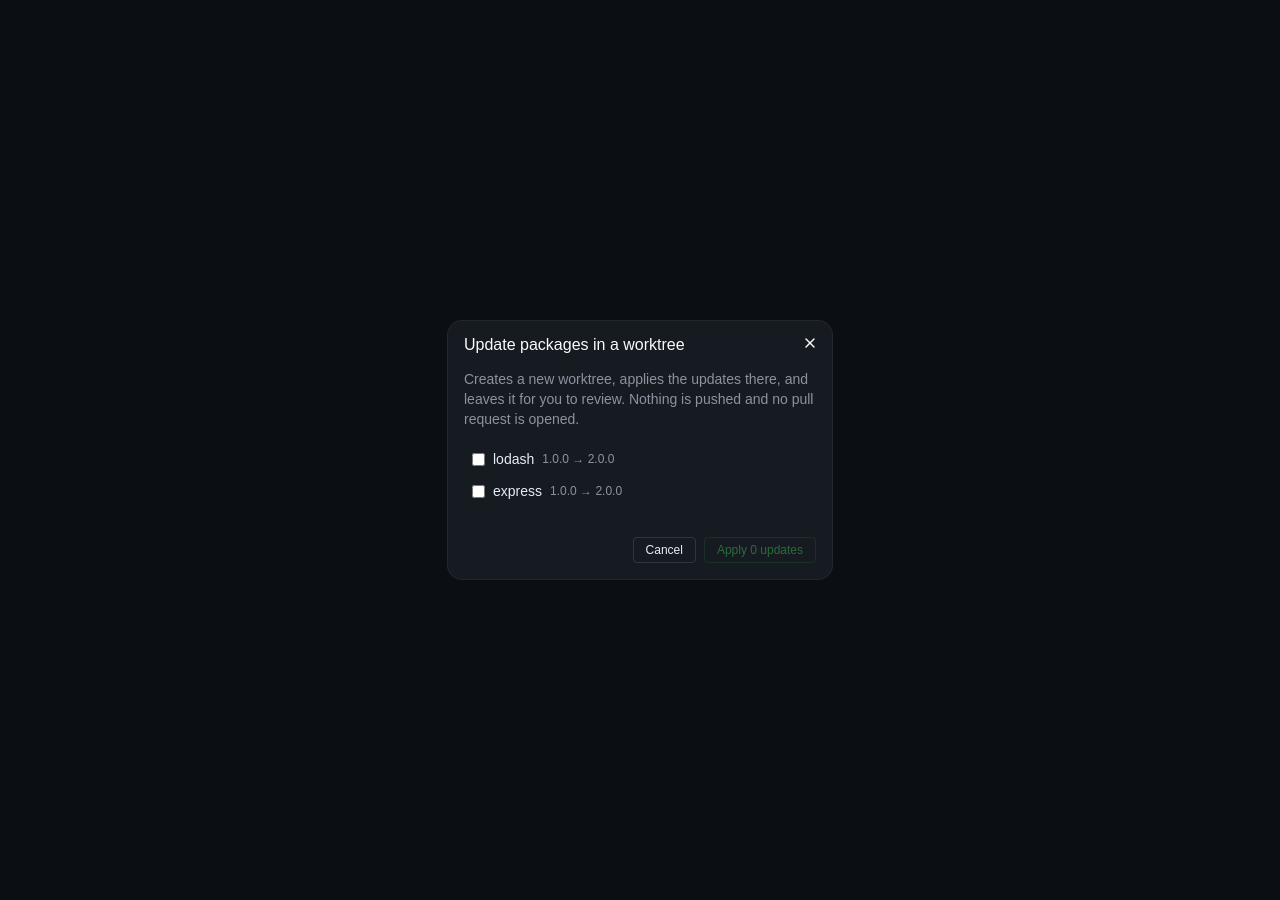
Test: UpdateWizard › reports a per-package failure without discarding the run
The image size is (1280, 900).
Click the checkbox labelled "lodash 1.0.0 → 2.0.0".
click(478, 459)  # box [472, 452, 485, 466]
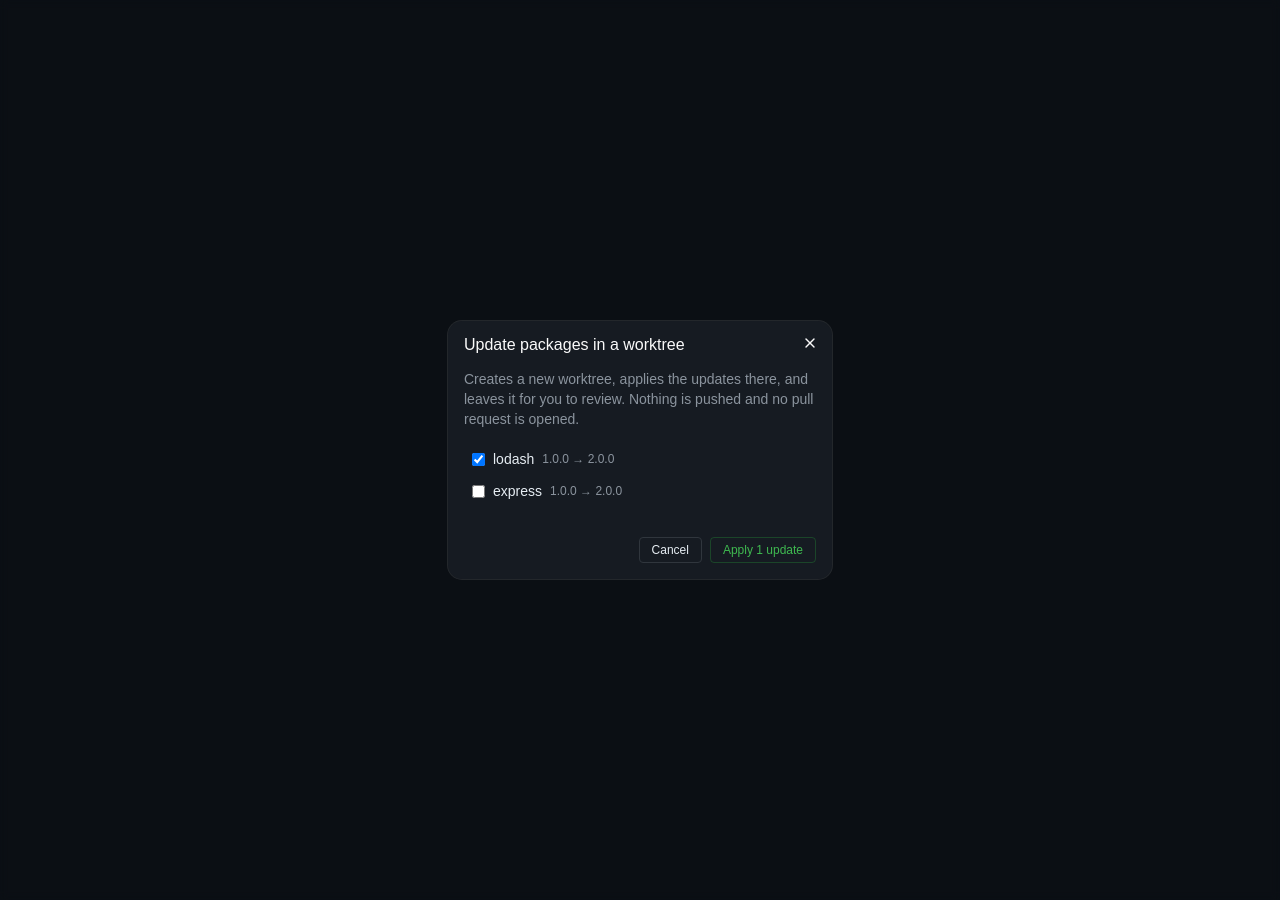
Click the checkbox labelled "express 1.0.0 → 2.0.0".
click(478, 491)  # box [472, 484, 485, 498]
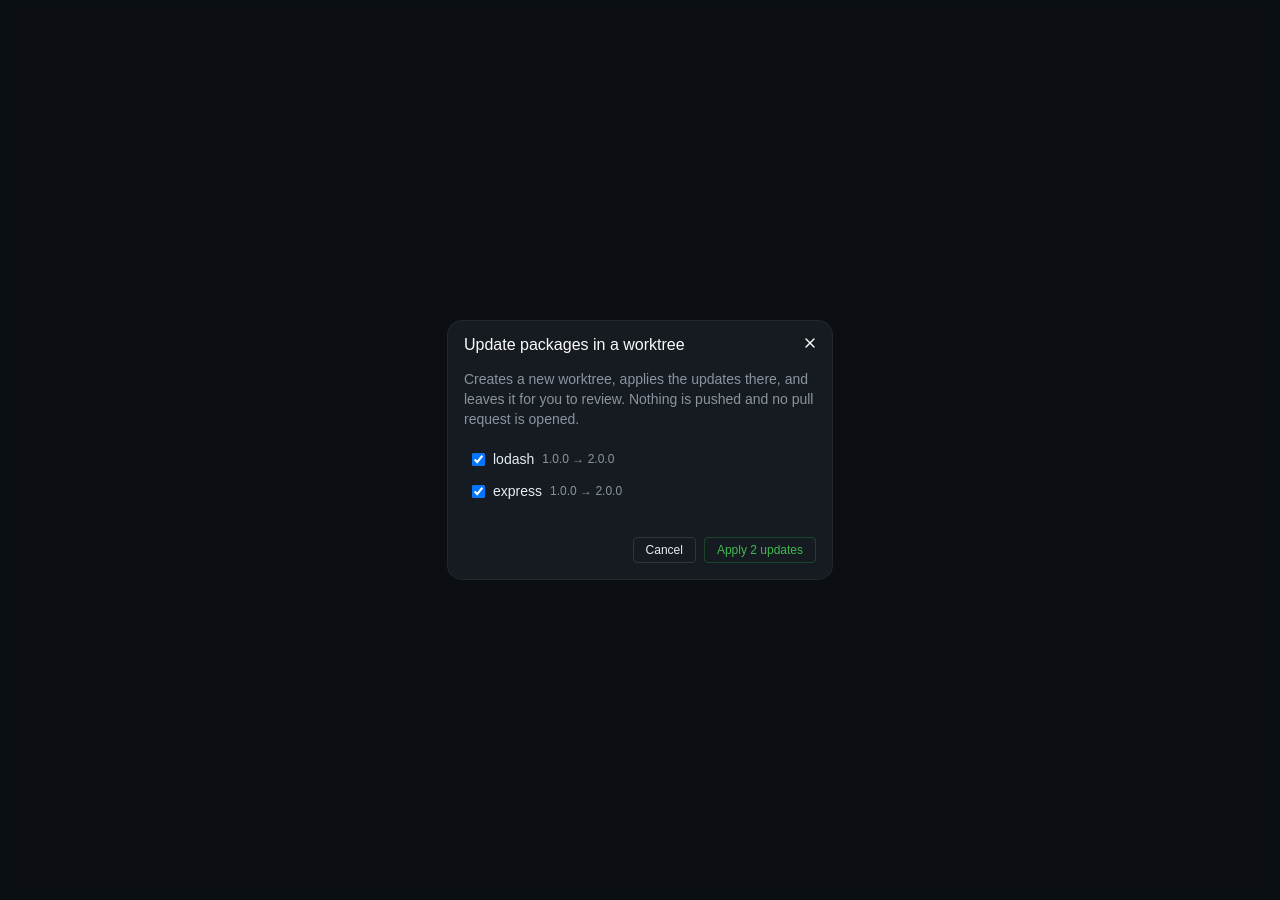
Click the button "Apply 2 updates".
click(760, 550)  # box [704, 537, 816, 563]
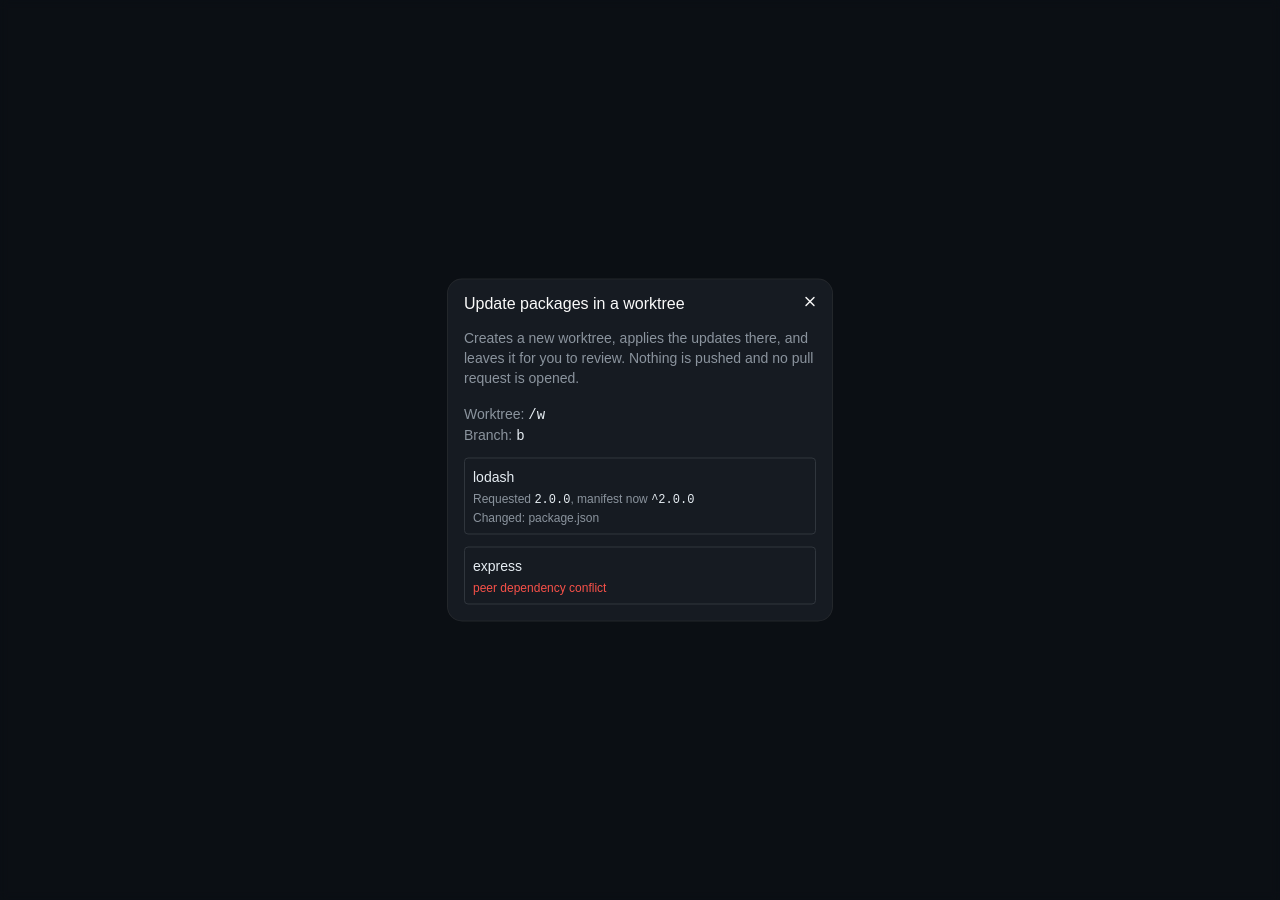
Expected: the text "peer dependency conflict" is shown, [473, 580, 606, 594]
Expected: the text "^2.0.0" is shown, [651, 492, 694, 506]
